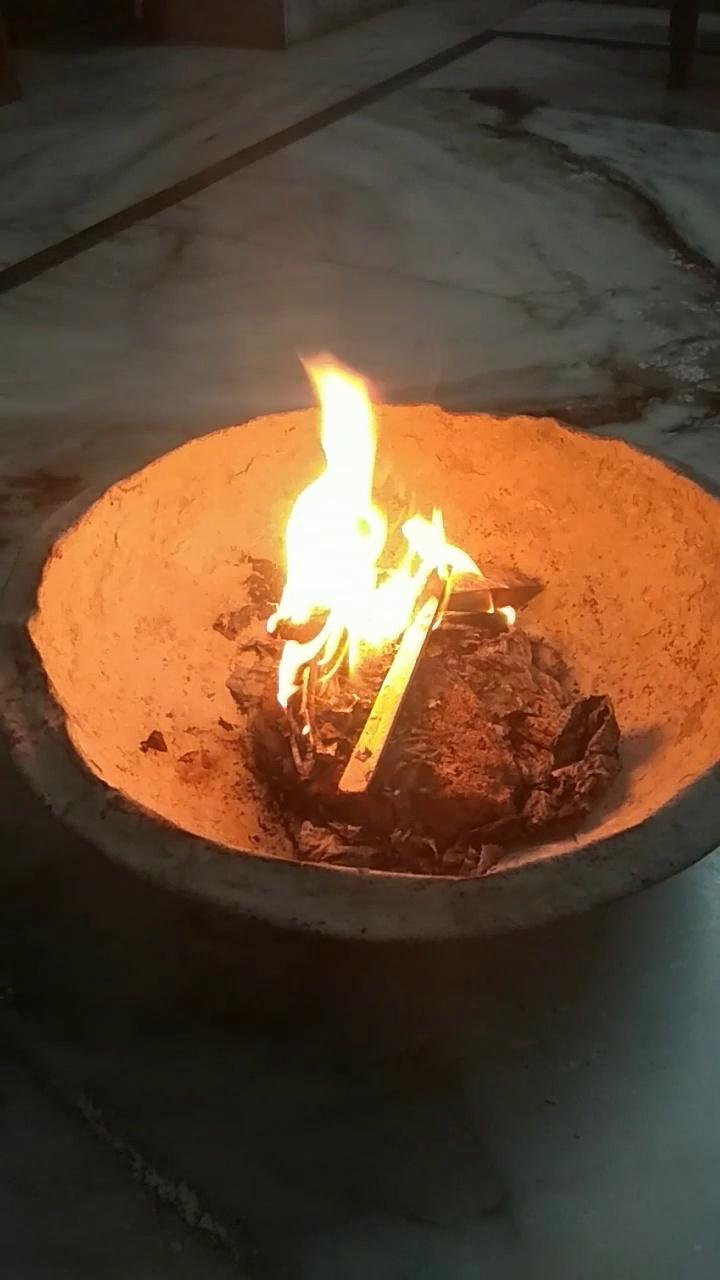fire: (262, 362, 476, 687)
